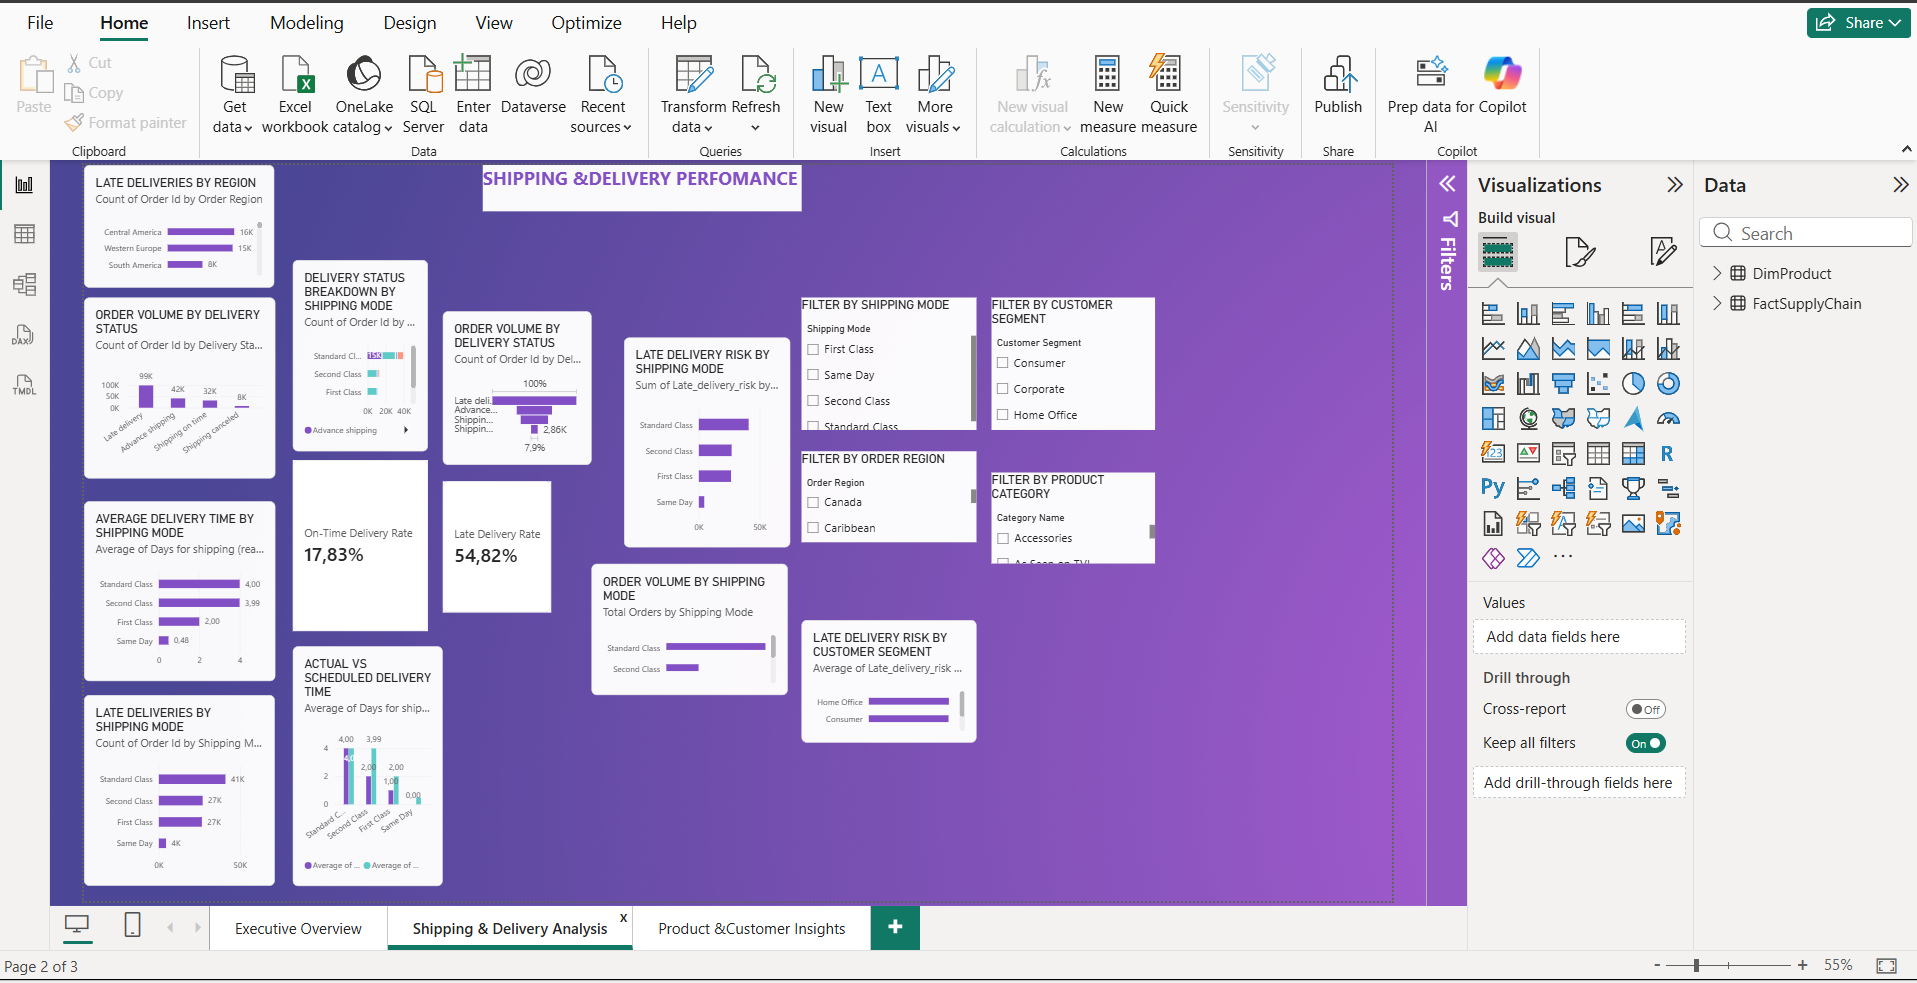

Layout of this report page (visuals, bound fields, positions):
{"tool":"powerbi","page":{"name":"Shipping & Delivery Analysis","canvas":[1920,1080],"ordinal":1},"visuals":[{"type":"clusteredColumnChart","title":"ORDER VOLUME BY DELIVERY STATUS","fields":{"Category":["FactSupplyChain.Delivery Status"],"Y":["CountNonNull(FactSupplyChain.Order Id)"]},"box":[0,194.4,280.6,266],"z":0},{"type":"clusteredBarChart","title":"AVERAGE DELIVERY TIME BY SHIPPING MODE","fields":{"Category":["FactSupplyChain.Shipping Mode"],"Y":["Avg(FactSupplyChain.Days for shipping (real))"]},"box":[0,493.4,280.6,264.1],"z":1000},{"type":"clusteredBarChart","title":"LATE DELIVERIES BY SHIPPING MODE","fields":{"Category":["FactSupplyChain.Shipping Mode"],"Y":["CountNonNull(FactSupplyChain.Order Id)"]},"box":[0,777.7,280,280],"z":2000},{"type":"clusteredBarChart","title":"LATE DELIVERIES BY REGION","fields":{"Category":["FactSupplyChain.Order Region"],"Y":["CountNonNull(FactSupplyChain.Order Id)"]},"box":[0,0,278.8,179.8],"z":3000},{"type":"clusteredColumnChart","title":"ACTUAL VS SCHEDULED DELIVERY TIME","fields":{"Category":["FactSupplyChain.Shipping Mode"],"Y":["Avg(FactSupplyChain.Days for shipment (scheduled))","Avg(FactSupplyChain.Days for shipping (real))"]},"box":[306.3,706.2,220.1,352.2],"z":4000},{"type":"barChart","title":"DELIVERY STATUS BREAKDOWN BY SHIPPING MODE","fields":{"Category":["FactSupplyChain.Shipping Mode"],"Series":["FactSupplyChain.Delivery Status"],"Y":["Count(FactSupplyChain.Order Id)"]},"box":[306.3,139.4,198.1,280.6],"z":5000},{"type":"cardVisual","fields":{"Data":["DimProduct.On-Time Delivery Rate"]},"box":[306.3,432.9,198.1,251.3],"z":6000},{"type":"cardVisual","fields":{"Data":["DimProduct.Late Delivery Rate"]},"box":[526.4,464.1,159.6,192.6],"z":7000},{"type":"textbox","box":[585.1,0,467.7,67.9],"z":8000},{"type":"funnel","title":"ORDER VOLUME BY DELIVERY STATUS","fields":{"Category":["FactSupplyChain.Delivery Status"],"Y":["Count(FactSupplyChain.Order Id)"]},"box":[526.4,214.6,218.3,225.6],"z":9000},{"type":"clusteredBarChart","title":"ORDER VOLUME BY SHIPPING MODE","fields":{"Category":["FactSupplyChain.Shipping Mode"],"Y":["FactSupplyChain.Total Orders"]},"box":[744.7,585.1,288,192.6],"z":10000},{"type":"clusteredBarChart","title":"LATE DELIVERY RISK BY SHIPPING MODE","fields":{"Category":["FactSupplyChain.Shipping Mode"],"Y":["Sum(FactSupplyChain.Late_delivery_risk)"]},"box":[792.4,253.1,244,308.2],"z":11000},{"type":"slicer","title":"FILTER BY SHIPPING MODE","fields":{"Values":["FactSupplyChain.Shipping Mode"]},"box":[1052.9,194.4,256.8,194.4],"z":12000},{"type":"slicer","title":"FILTER BY ORDER REGION","fields":{"Values":["FactSupplyChain.Order Region"]},"box":[1052.9,420,256.8,133.9],"z":13000},{"type":"slicer","title":"FILTER BY CUSTOMER SEGMENT","fields":{"Values":["FactSupplyChain.Customer Segment"]},"box":[1331.7,194.4,240.3,194.4],"z":14000},{"type":"slicer","title":"FILTER BY PRODUCT CATEGORY","fields":{"Values":["DimProduct.Category Name"]},"box":[1331.7,451.2,240.3,133.9],"z":15000},{"type":"clusteredBarChart","title":"LATE DELIVERY RISK BY CUSTOMER SEGMENT","fields":{"Category":["FactSupplyChain.Customer Segment"],"Y":["Avg(FactSupplyChain.Late_delivery_risk)"]},"box":[1052.9,667.7,257,180],"z":16000}]}

Visuals, with their boxes on the page's 1920x1080 design canvas (x1, y1, x2, y2). These are canvas units, not pixel positions in the 1917x983 screenshot, which may show the page scaled, cropped or inside an application window:
"ORDER VOLUME BY DELIVERY STATUS" clusteredColumnChart: region(0, 194, 281, 460)
"AVERAGE DELIVERY TIME BY SHIPPING MODE" clusteredBarChart: region(0, 493, 281, 758)
"LATE DELIVERIES BY SHIPPING MODE" clusteredBarChart: region(0, 778, 280, 1058)
"LATE DELIVERIES BY REGION" clusteredBarChart: region(0, 0, 279, 180)
"ACTUAL VS SCHEDULED DELIVERY TIME" clusteredColumnChart: region(306, 706, 526, 1058)
"DELIVERY STATUS BREAKDOWN BY SHIPPING MODE" barChart: region(306, 139, 504, 420)
cardVisual - DimProduct.On-Time Delivery Rate: region(306, 433, 504, 684)
cardVisual - DimProduct.Late Delivery Rate: region(526, 464, 686, 657)
textbox: region(585, 0, 1053, 68)
"ORDER VOLUME BY DELIVERY STATUS" funnel: region(526, 215, 745, 440)
"ORDER VOLUME BY SHIPPING MODE" clusteredBarChart: region(745, 585, 1033, 778)
"LATE DELIVERY RISK BY SHIPPING MODE" clusteredBarChart: region(792, 253, 1036, 561)
"FILTER BY SHIPPING MODE" slicer: region(1053, 194, 1310, 389)
"FILTER BY ORDER REGION" slicer: region(1053, 420, 1310, 554)
"FILTER BY CUSTOMER SEGMENT" slicer: region(1332, 194, 1572, 389)
"FILTER BY PRODUCT CATEGORY" slicer: region(1332, 451, 1572, 585)
"LATE DELIVERY RISK BY CUSTOMER SEGMENT" clusteredBarChart: region(1053, 668, 1310, 848)
